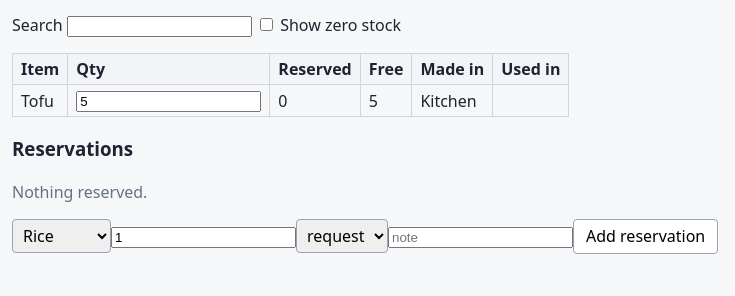
Test: StockTab › rejects a non-positive reservation quantity
Replace the text in the field named "Reservation quantity" with "0" at (204, 238), box [111,227,296,248]
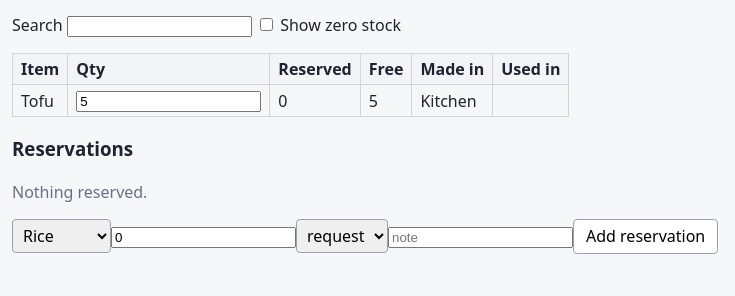
Click the button "Add reservation".
click(646, 237)  # box [573,219,718,254]
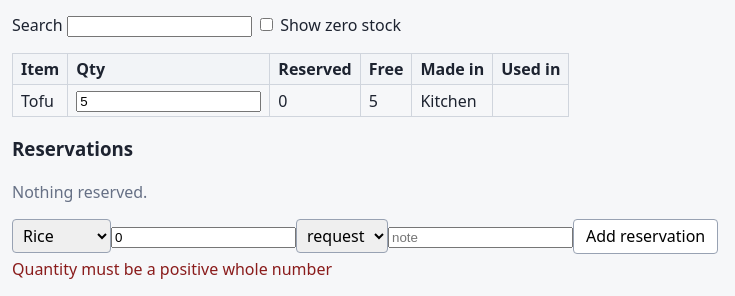
Expected: the message "Quantity must be a positive whole number" is shown, [12,258,332,280]
